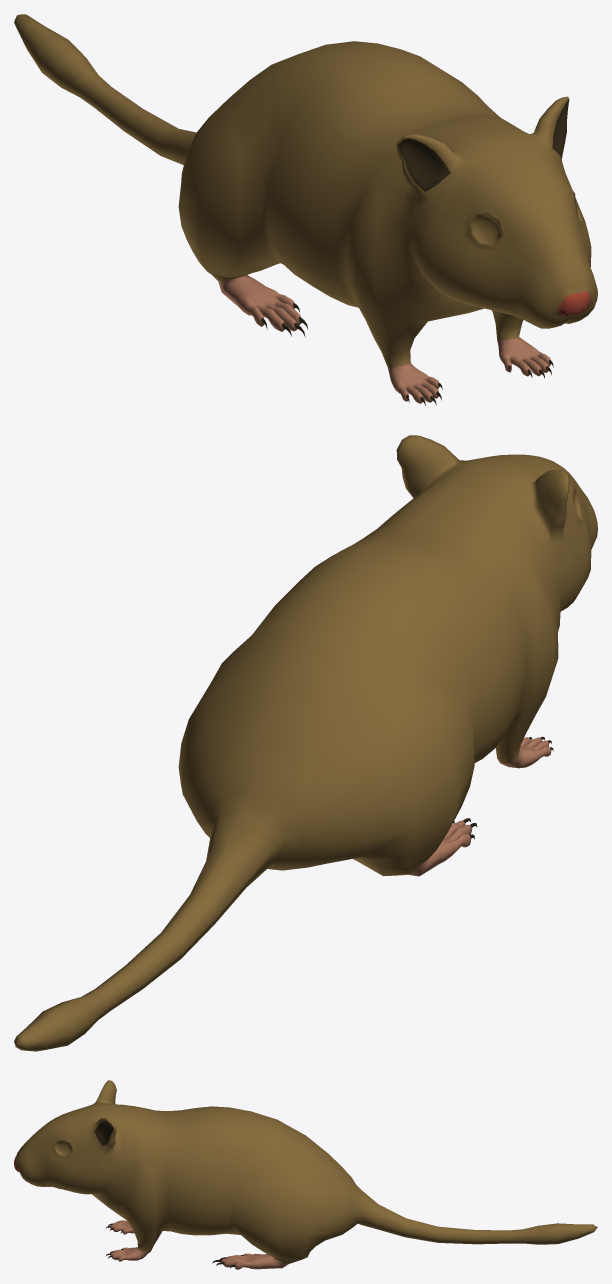
The model's file is gerbil_gerbil.obj.
The picture shows the model from 3 angles, top to bottom: view 1: azimuth 30°, elevation 25°; view 2: azimuth 150°, elevation 25°; view 3: azimuth 270°, elevation 25°; orthographic projection. The views are drawn at different scales.
Parts seen in each view (by area): view 1: gerbil; view 2: gerbil; view 3: gerbil.
Boxes of the visible parts, left/top/right/bottom form: gerbil: left=14, top=14, right=597, bottom=405; gerbil: left=14, top=435, right=597, bottom=1051; gerbil: left=14, top=1080, right=597, bottom=1269.
Bounding box in the file's own units: 0.0455 × 0.0468 × 0.172.
